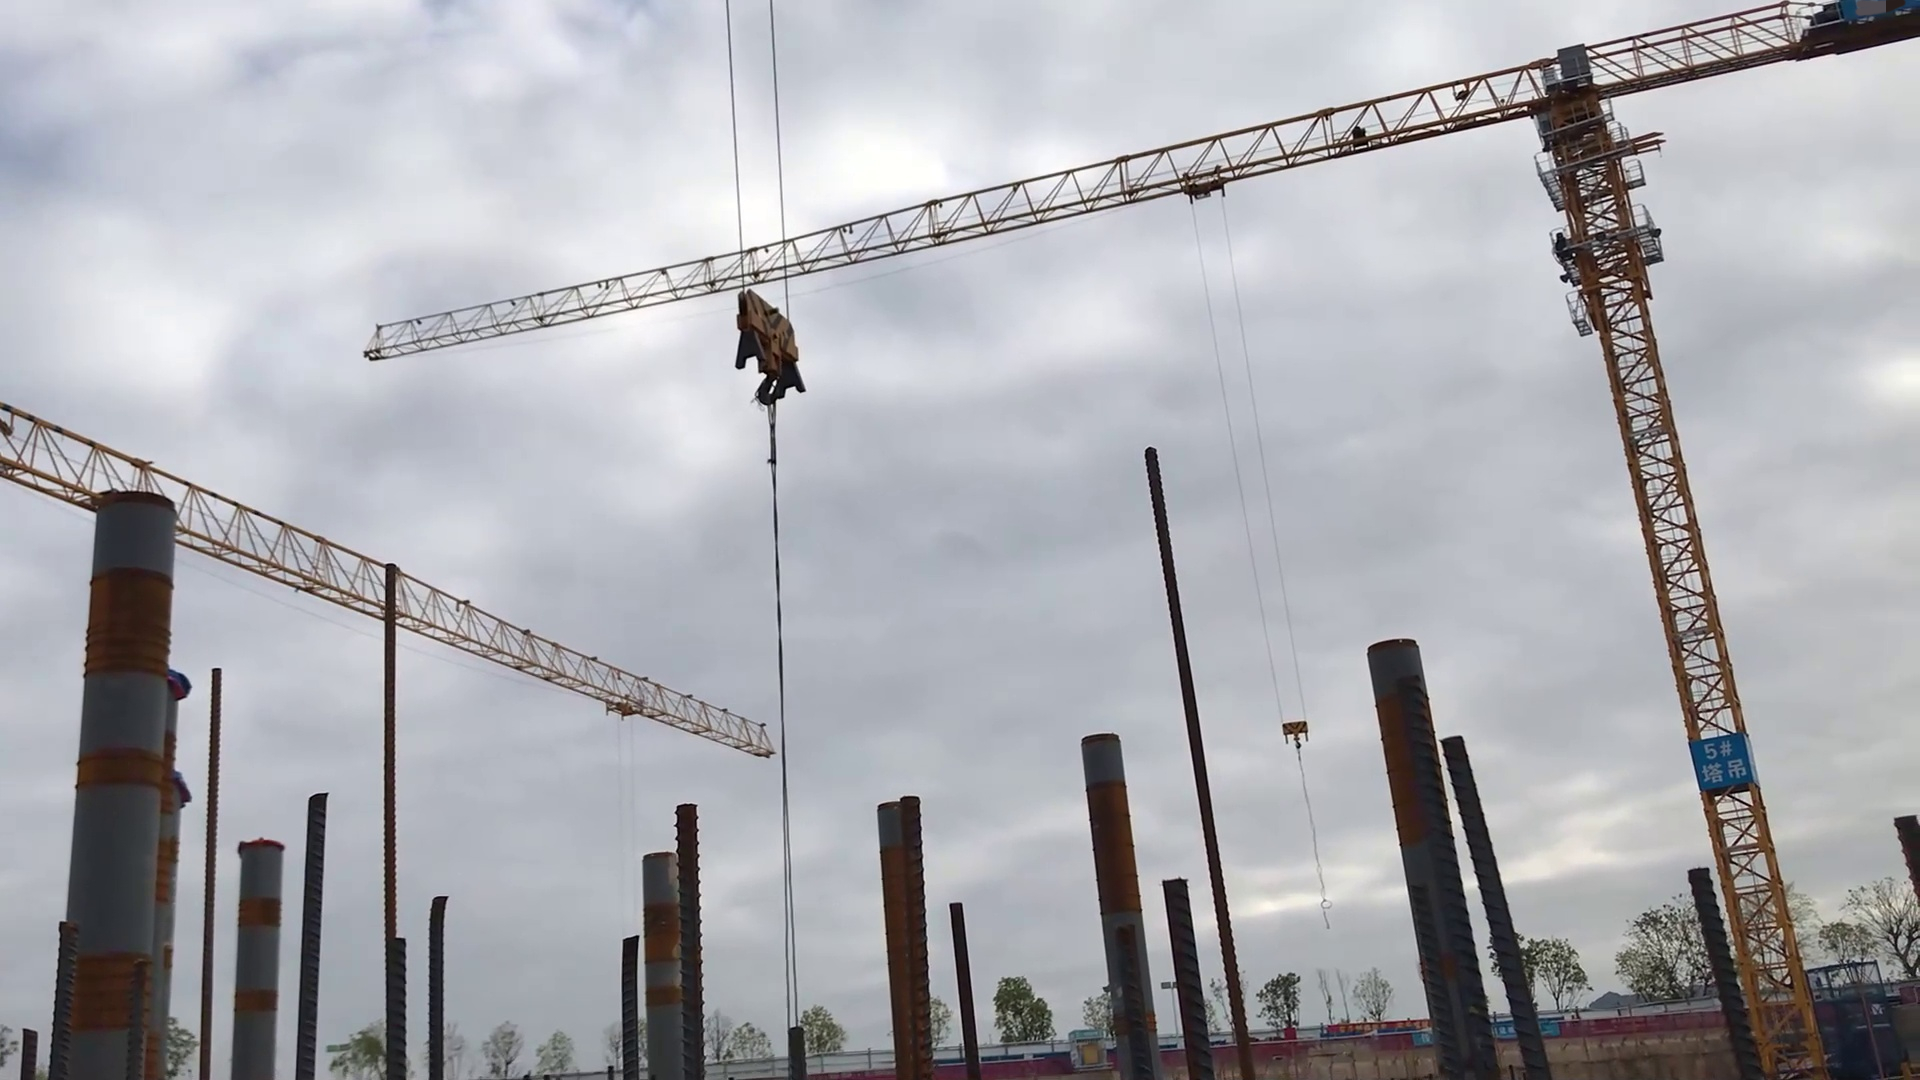fence: (1577, 1010, 1713, 1054), (985, 1039, 1064, 1080)
hook: (719, 265, 839, 435), (1270, 705, 1317, 760)
slogan: (1685, 731, 1760, 794)
